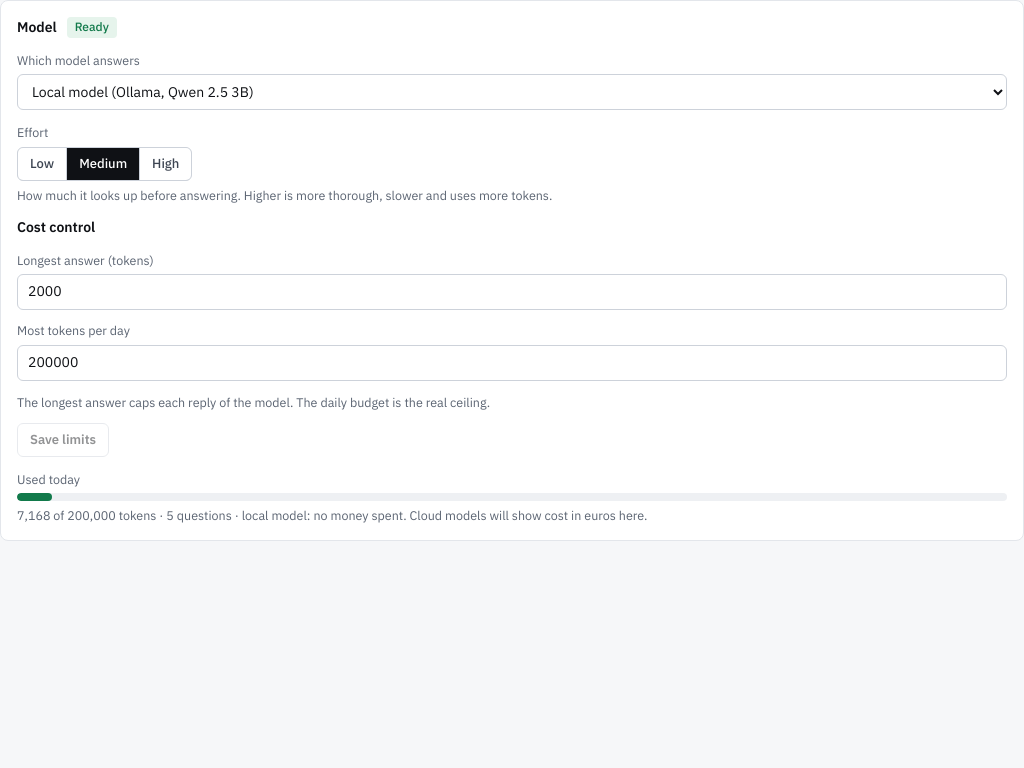
Test: shows why a change was refused
What coordinates should you click on to do the following:
click the button "Low"
I would click on:
 (42, 164)
Its box is x1=18 y1=148 x2=66 y2=180.
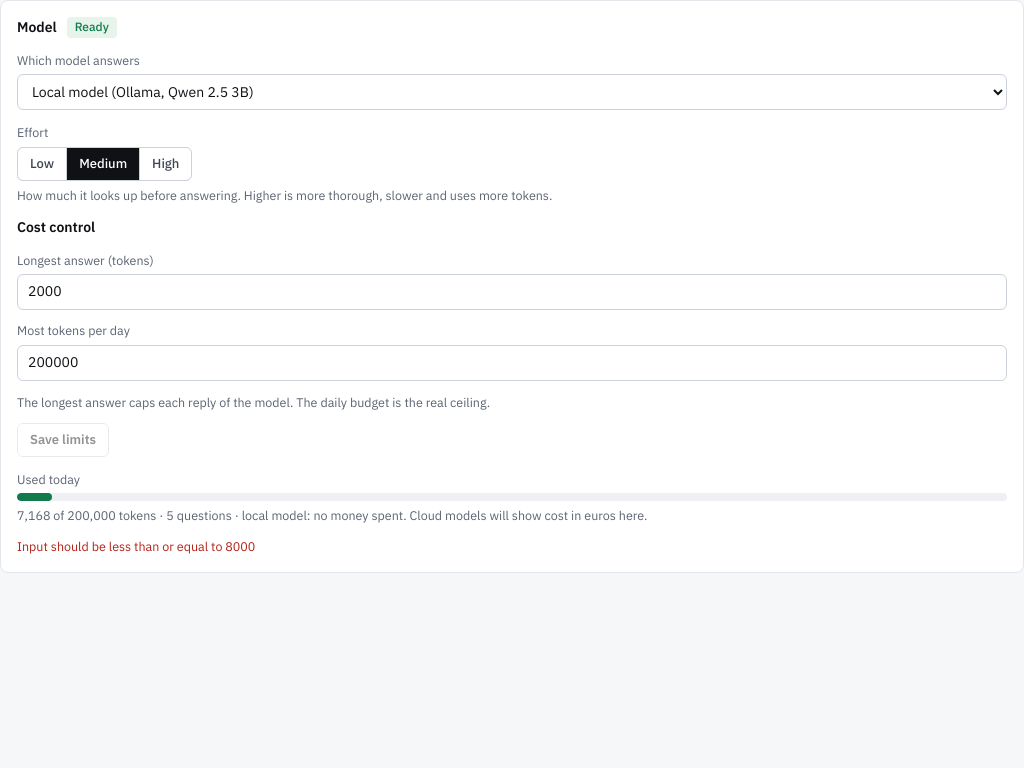
Now the message reads "Input should be less than or equal to 8000", box x1=17 y1=538 x2=255 y2=554
